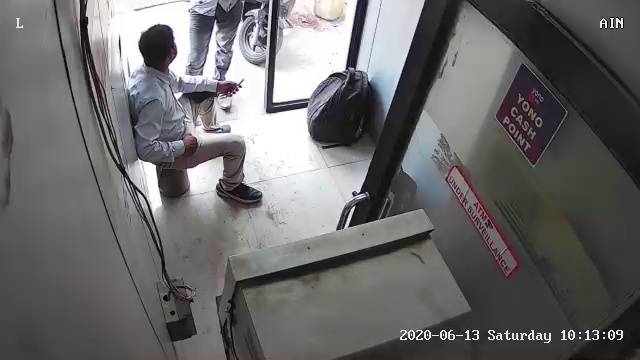open: (199, 6, 380, 147)
